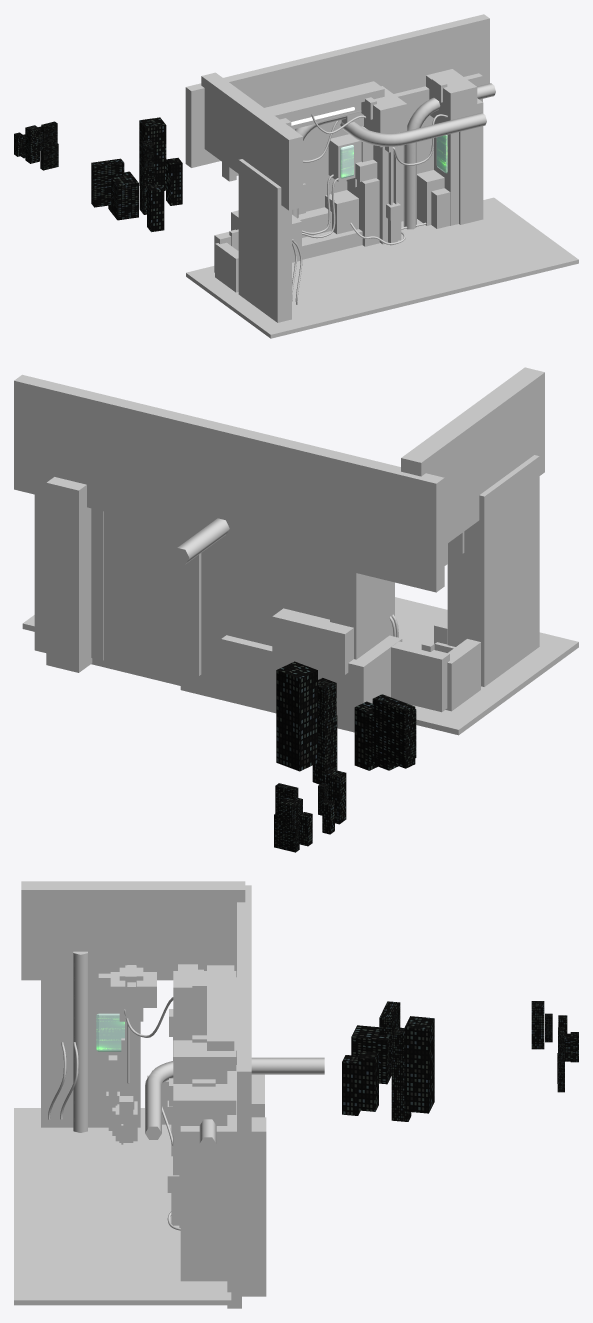
Rendered from ServerRoom2.fbx.
3 renders of one model, top to bottom at view 1: azimuth 30°, elevation 25°; view 2: azimuth 150°, elevation 25°; view 3: azimuth 270°, elevation 25°, orthographic. The views are drawn at different scales.
Parts seen in each view (by area): view 1: Cube, Cube.044, Cube.045, Cube.016, BézierCurve.001, Cube.068, Cube.005, Cube.030, Cube.070, Cube.046, BézierCurve, Cube.048 (+22 smaller); view 2: Cube.044, Cube.016, Cube.046, Cube.005, Cube.045, Cube.068, Cube, Cube.056, Cube.004, Cube.003, Cube.048, Cube.014 (+14 smaller); view 3: Cube, Cube.045, Cube.068, Cube.016, BézierCurve.001, Cube.044, Cube.056, Cube.046, Cube.070, Cube.030, Cube.049, Cube.013 (+13 smaller).
Part boxes in pixels (x1,y1,x2,y2): Cube: (186, 197, 578, 338); Cube.044: (185, 14, 489, 167); Cube.045: (201, 72, 302, 210); Cube.016: (238, 159, 291, 322); BézierCurve.001: (292, 83, 495, 229); Cube.068: (459, 98, 483, 224); Cube.005: (303, 120, 348, 211); Cube.030: (264, 81, 384, 119); Cube.070: (426, 69, 477, 122); Cube.046: (394, 73, 482, 221); BézierCurve: (292, 114, 447, 304); Cube.048: (373, 145, 401, 244); Cube.044: (14, 374, 444, 592); Cube.016: (464, 455, 539, 686); Cube.046: (34, 494, 180, 685); Cube.005: (180, 539, 354, 732); Cube.045: (401, 367, 544, 545); Cube.068: (46, 477, 92, 672); Cube: (22, 597, 578, 735); Cube.056: (276, 661, 317, 771); Cube.004: (330, 566, 394, 659); Cube.003: (272, 608, 353, 674); Cube.048: (172, 528, 201, 675); Cube.014: (391, 641, 449, 712); Cube: (14, 1108, 231, 1305); Cube.045: (21, 881, 245, 980); Cube.068: (180, 1117, 266, 1296); Cube.016: (41, 980, 140, 1127); BézierCurve.001: (73, 951, 324, 1150); Cube.044: (237, 885, 251, 1169); Cube.056: (404, 1016, 434, 1113); Cube.046: (227, 1065, 241, 1308); Cube.070: (173, 1084, 236, 1147); Cube.030: (207, 965, 234, 1050); Cube.049: (173, 1040, 236, 1083); Cube.013: (173, 971, 236, 1034).
Bounding box in the file's own units: 2662 × 1518 × 2920.
